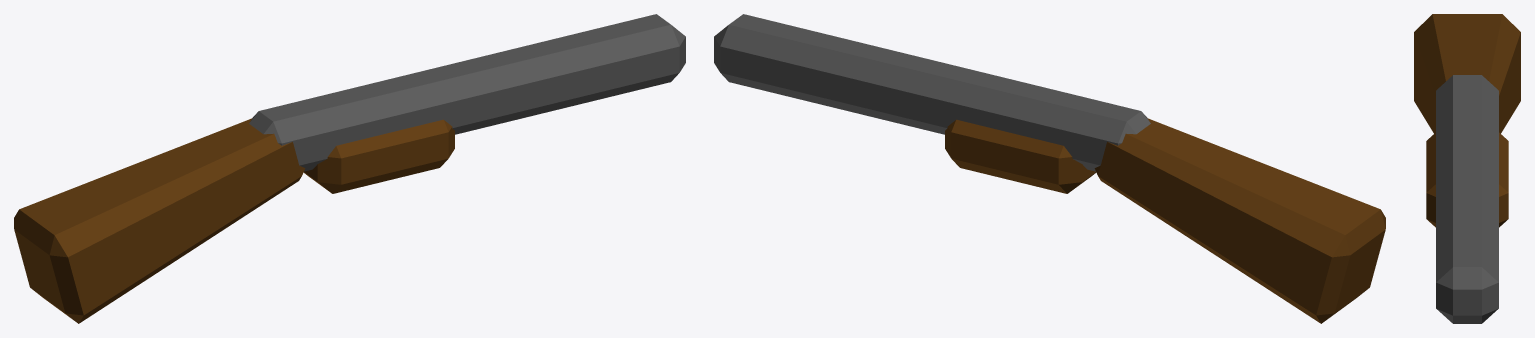
File: shotgun.fbx
3 renders of one model, left to right at view 1: azimuth 30°, elevation 25°; view 2: azimuth 150°, elevation 25°; view 3: azimuth 270°, elevation 25°, orthographic.
Visible parts, largest first — view 1: Cube_2, Cube, Cube_1; view 2: Cube_2, Cube, Cube_1; view 3: Cube, Cube_2, Cube_1.
Part boxes in pixels (box(x1,y1,x2,y2)): Cube_2: box(14, 118, 305, 323); Cube: box(249, 14, 685, 171); Cube_1: box(303, 119, 454, 193); Cube_2: box(1094, 118, 1385, 323); Cube: box(714, 14, 1150, 171); Cube_1: box(945, 119, 1096, 193); Cube: box(1436, 75, 1498, 323); Cube_2: box(1414, 14, 1520, 133); Cube_1: box(1426, 132, 1508, 227).
Size of the model in its own units: 1434 by 306 by 208.
